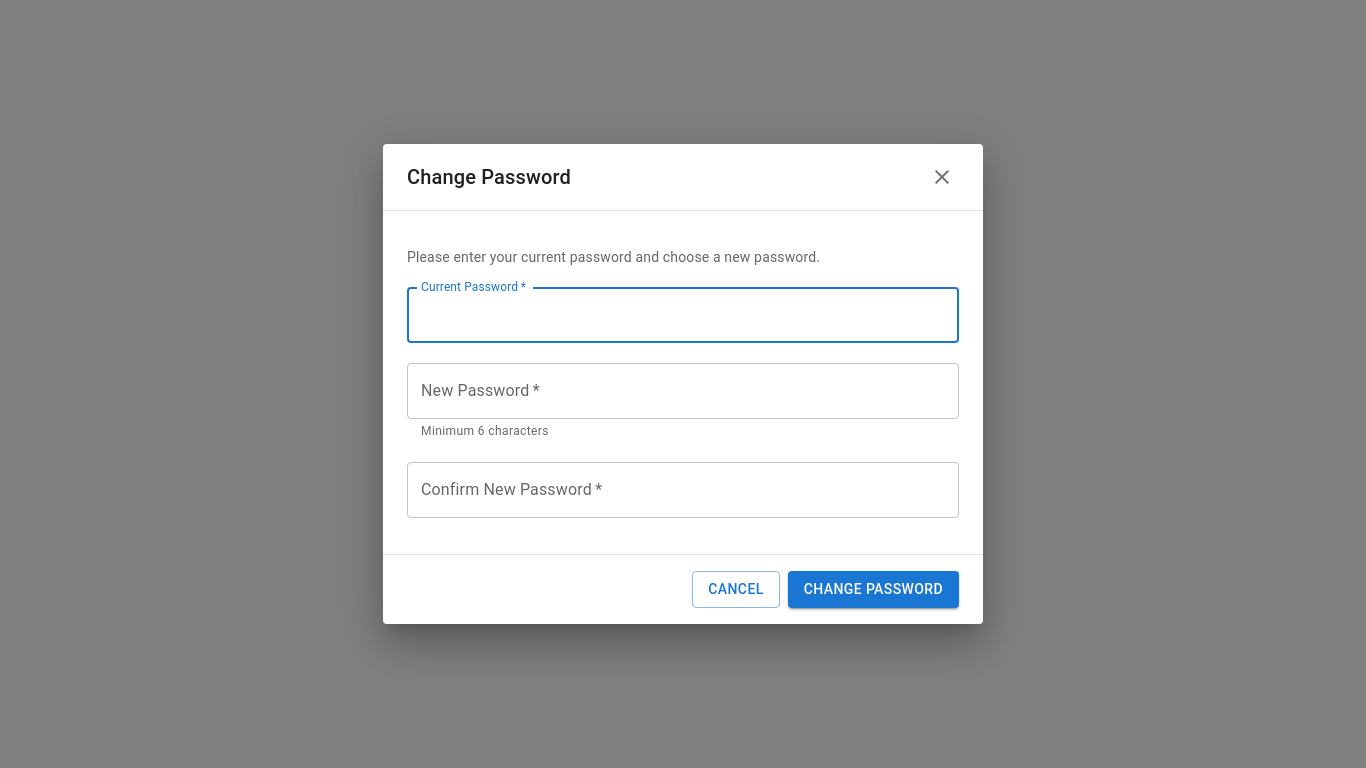
ChangePasswordModal › Validation › shows error when new password is empty
In the password field labelled "Current Password *": (683, 315) 407,287 -> 959,343, type "currentpassword"
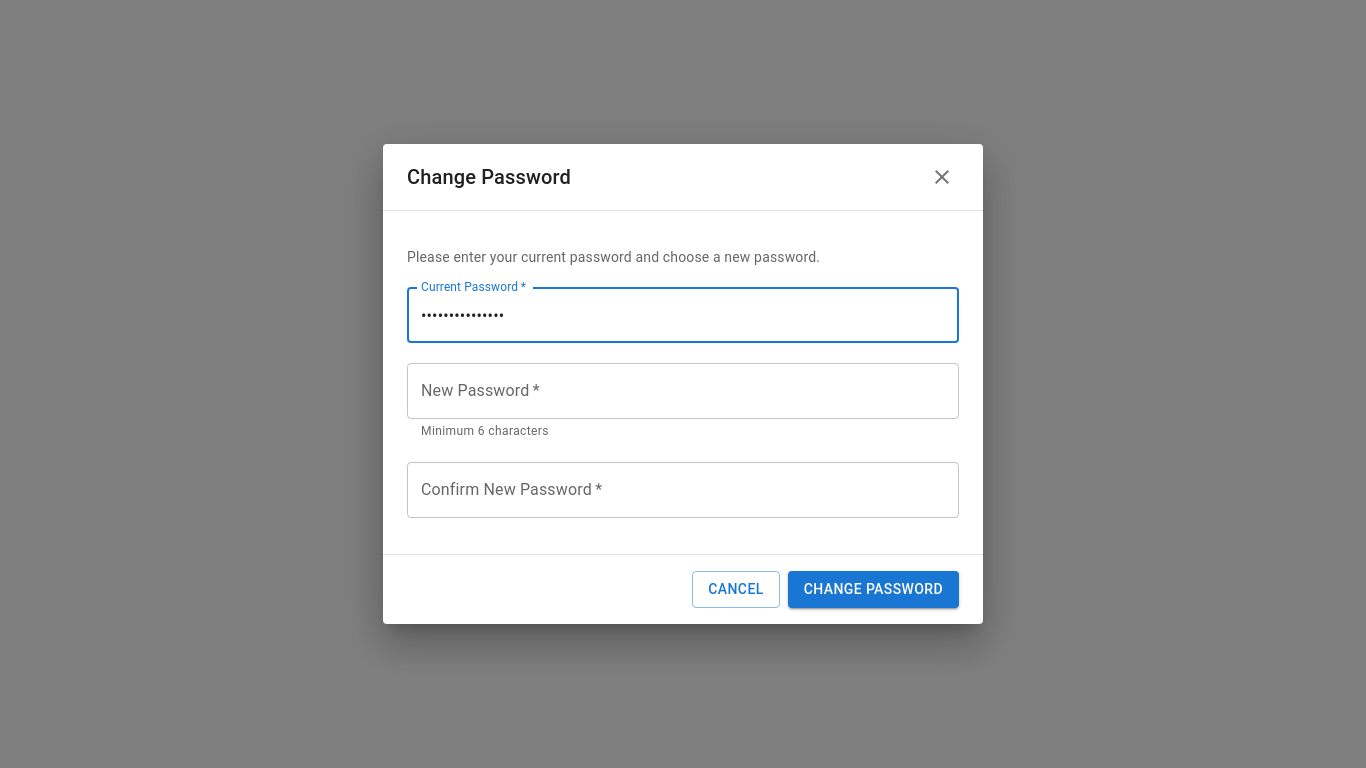
// Use fireEvent.submit to bypass HTML5 validation
Submit the form, box 383,211 -> 983,624
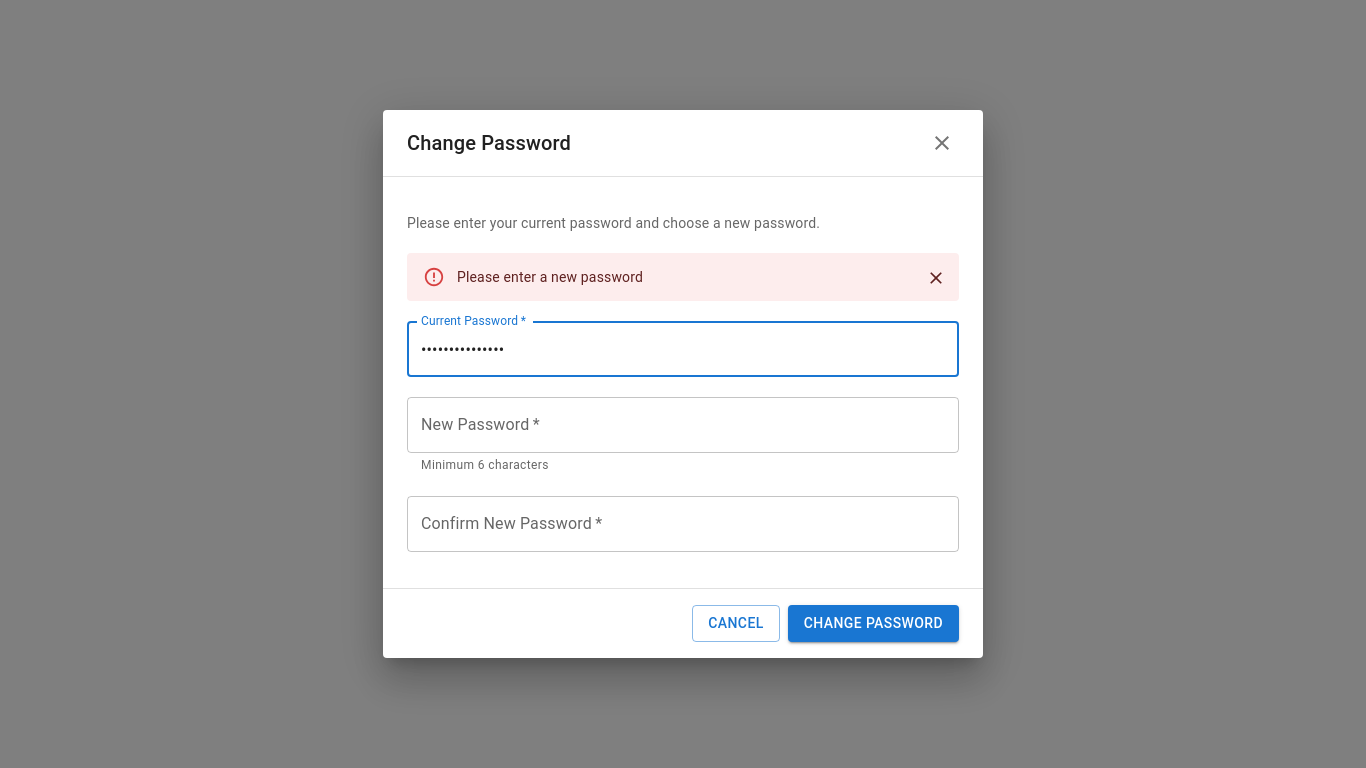
Expected: the text "Please enter a new password" is shown, 457,269 -> 643,285
